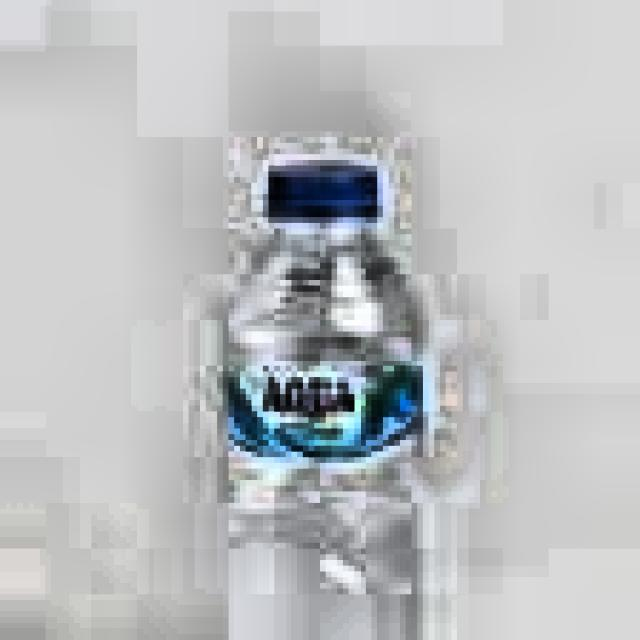plastic: (183, 137, 520, 640)
